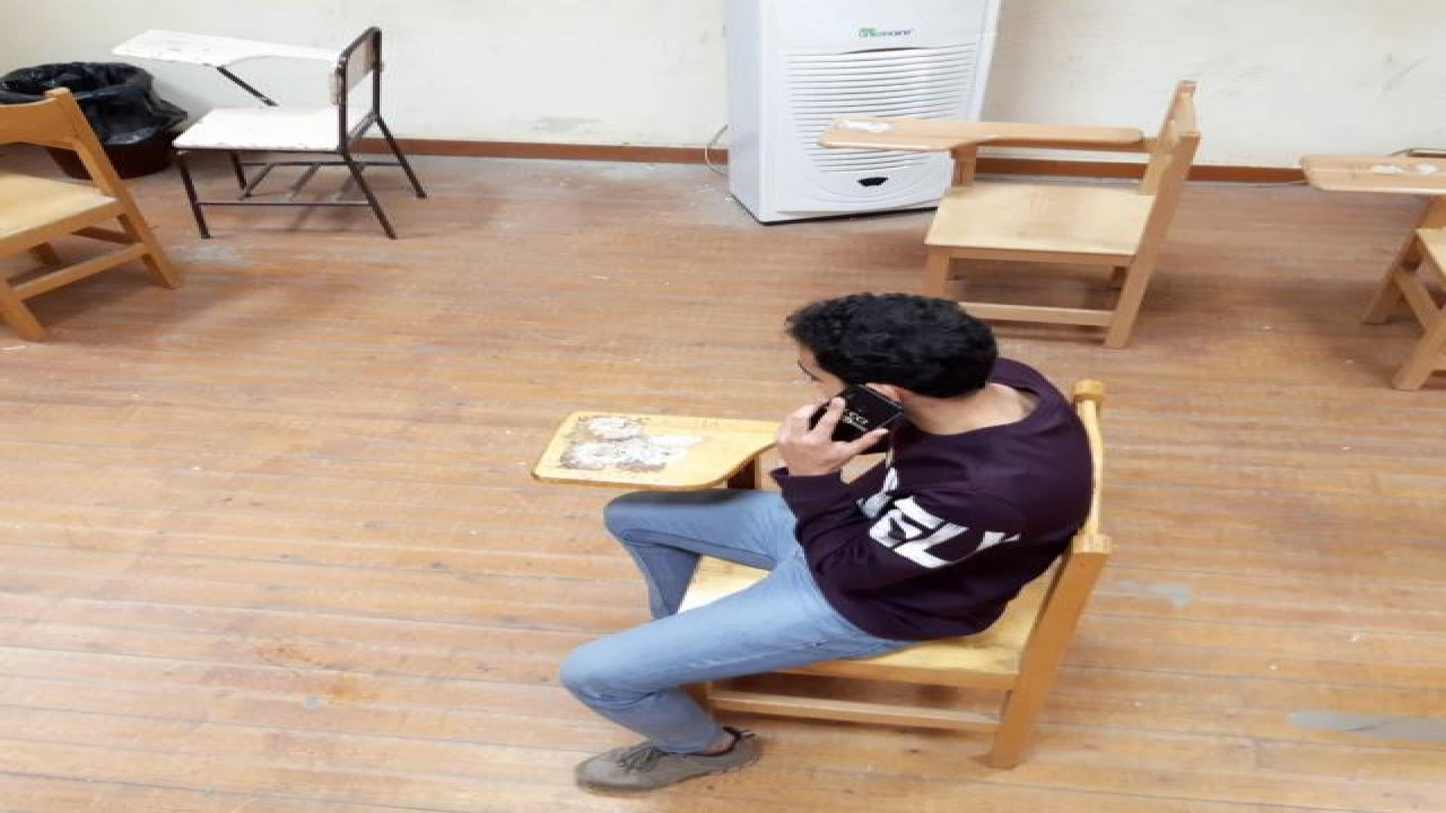phone: (844, 384, 905, 432)
